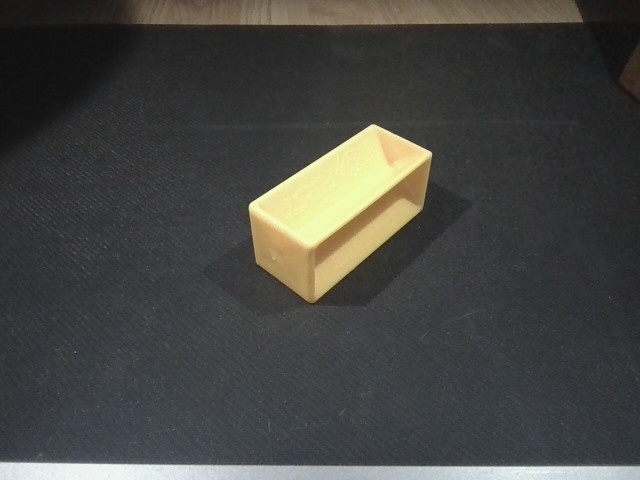YellowSample: (246, 121, 437, 305)
